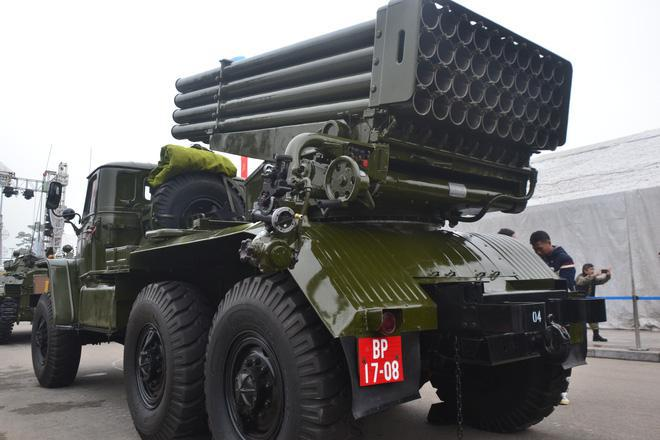License_Plate: (355, 334, 406, 386)
